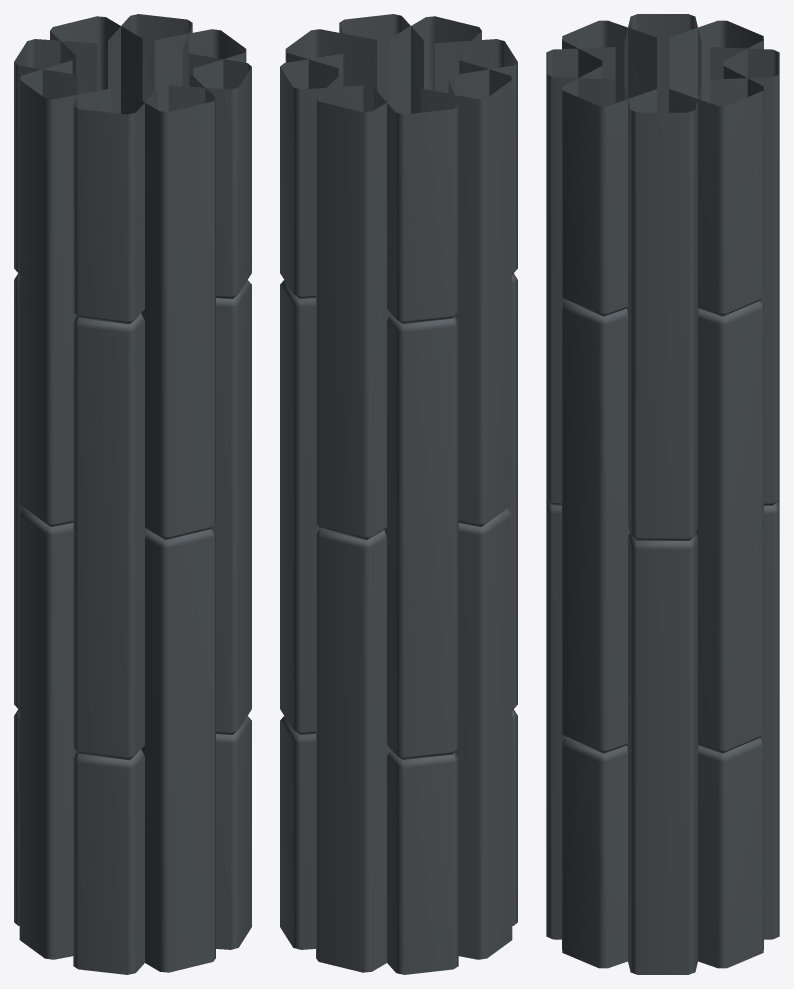
The model's file is pillar_008.glb.
3 renders of one model, left to right at view 1: azimuth 30°, elevation 25°; view 2: azimuth 150°, elevation 25°; view 3: azimuth 270°, elevation 25°, orthographic.
Parts seen in each view (by area): view 1: pillar_008; view 2: pillar_008; view 3: pillar_008.
Part boxes in pixels (bbox=[...]): pillar_008: bbox=[14, 14, 251, 974]; pillar_008: bbox=[280, 14, 517, 974]; pillar_008: bbox=[546, 14, 779, 974].
Size of the model in its own units: 5.99 by 24.43 by 5.99.
1 material, 1 textured.
